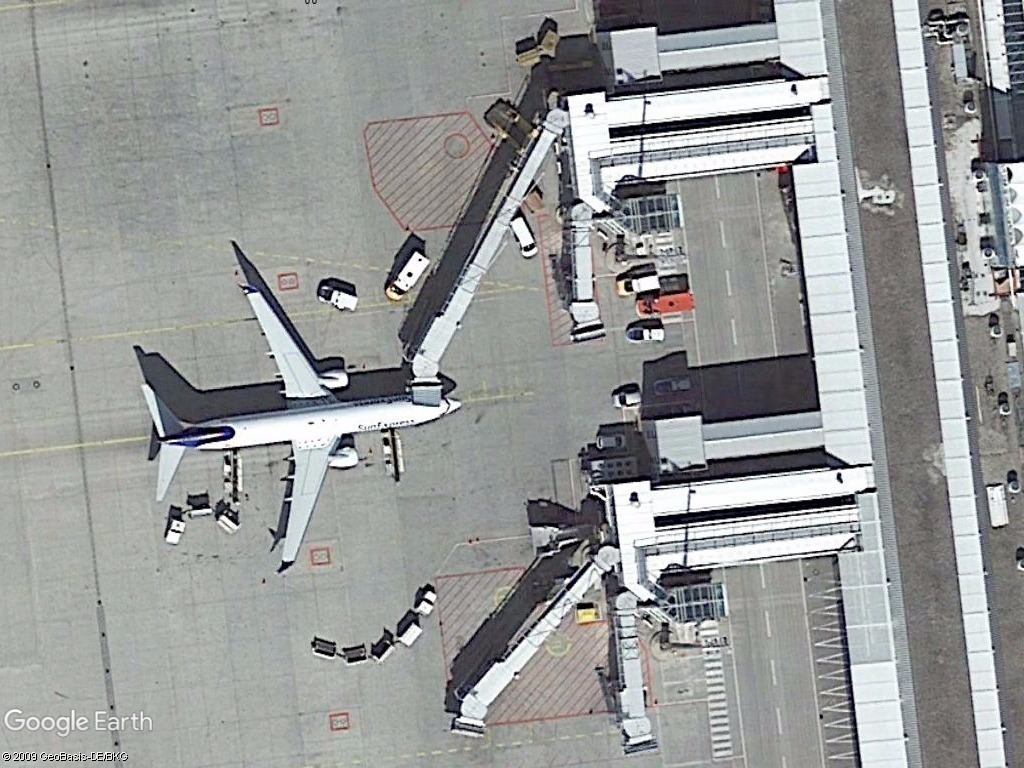airliner: (139, 286, 465, 580)
van: (380, 248, 433, 305), (505, 213, 543, 263)
